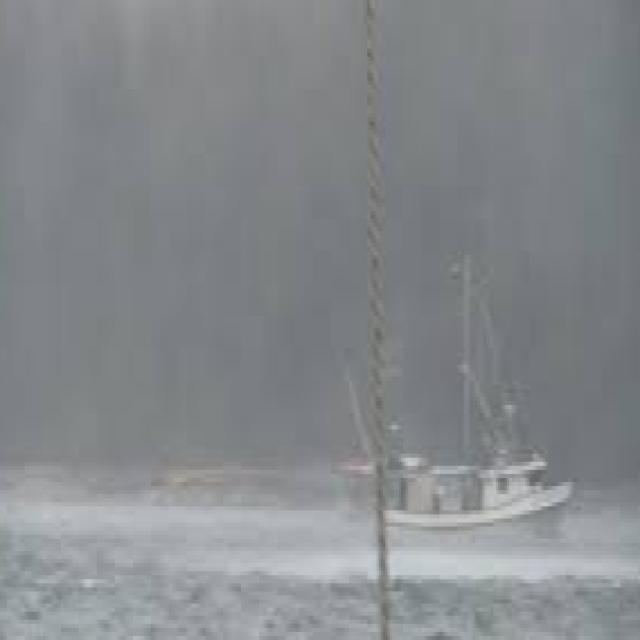fishing boat: (352, 211, 576, 552)
